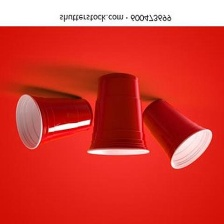glass: (86, 67, 153, 164), (142, 86, 218, 171), (9, 87, 94, 154)
